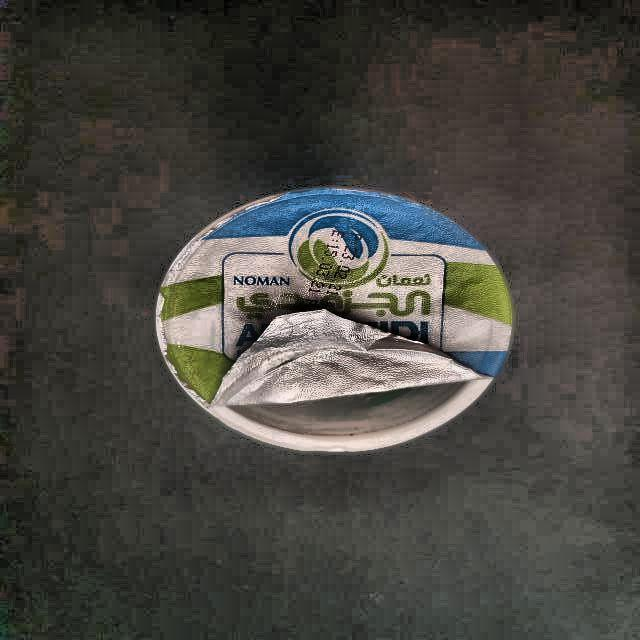plastic: (156, 188, 511, 451)
